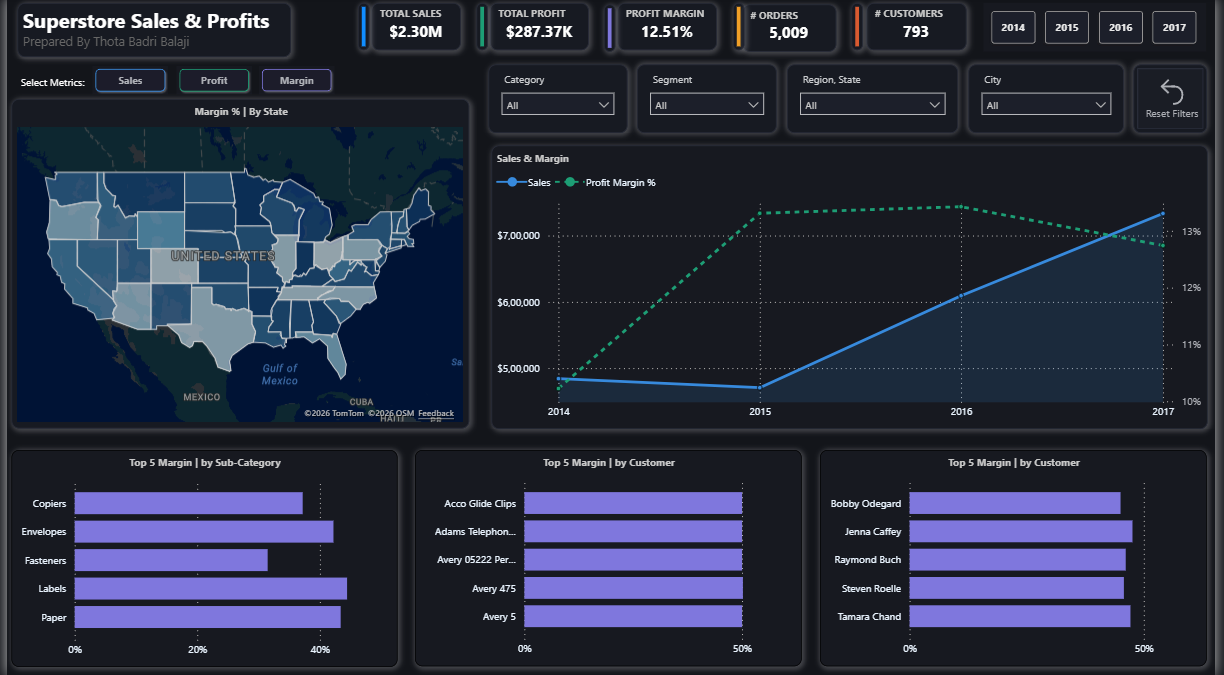

This screenshot's page, from the dashboard's own definition file:
{"tool":"powerbi","page":{"name":"Sales & Profit","canvas":[1280,720],"ordinal":0},"visuals":[{"type":"lineChart","title":"Sales & Margin  ","fields":{"Category":["Superstore sales dataset.Order Date.Variation.Date Hierarchy.Year","Superstore sales dataset.Order Date.Variation.Date Hierarchy.Quarter","Superstore sales dataset.Order Date.Variation.Date Hierarchy.Month","Superstore sales dataset.Order Date.Variation.Date Hierarchy.Day"],"Y":["Sum(Superstore sales dataset.Sales)"],"Y2":["measure.Profit Margin %"]},"box":[513,157.5,759,300.6],"z":0},{"type":"advancedSlicerVisual","fields":{"Values":["Superstore sales dataset.Order Date.Variation.Date Hierarchy.Year"]},"box":[1035.6,7,236.2,51.2],"z":1000},{"type":"slicer","fields":{"Values":["Superstore sales dataset.City"]},"box":[1019,72.4,164.9,72.4],"z":2000},{"type":"slicer","fields":{"Values":["Superstore sales dataset.Region Hierarchy.Region","Superstore sales dataset.Region Hierarchy.State"]},"box":[826.8,72.4,181.5,72.4],"z":3000},{"type":"slicer","fields":{"Values":["Superstore sales dataset.Segment"]},"box":[667.9,72.4,148.3,72.4],"z":4000},{"type":"slicer","fields":{"Values":["Superstore sales dataset.Category"]},"box":[510.1,72.4,147.1,72.4],"z":5000},{"type":"actionButton","title":"Reset Slicer","box":[1194.6,72.4,78.3,72.4],"z":6000},{"type":"card","title":"# CUSTOMERS","fields":{"Values":["Count(Superstore sales dataset.Customer ID)"]},"box":[911.9,7.2,105.9,50],"z":7000},{"type":"card","title":"# ORDERS","fields":{"Values":["Count(Superstore sales dataset.Order ID)"]},"box":[779.2,7.4,99.7,50],"z":8000},{"type":"card","title":"PROFIT MARGIN","fields":{"Values":["measure.Profit Margin %"]},"box":[648,6.8,105.6,50],"z":9000},{"type":"card","title":"TOTAL PROFIT","fields":{"Values":["Sum(Superstore sales dataset.Profit)"]},"box":[512.6,6.8,104.6,50],"z":10000},{"type":"card","title":"TOTAL SALES","fields":{"Values":["Sum(Superstore sales dataset.Sales)"]},"box":[387.1,7,94.9,50],"z":11000},{"type":"shape","box":[895.2,6.8,12,50],"z":12000},{"type":"shape","box":[769.9,6.8,12,50],"z":13000},{"type":"shape","box":[633.5,7.9,12,50],"z":14000},{"type":"shape","box":[498.3,6.8,12,50],"z":15000},{"type":"shape","box":[371.7,6.8,12,50],"z":16000},{"type":"actionButton","title":"Margin %","box":[267.6,73.1,80,30],"z":17000},{"type":"actionButton","title":"Profit","box":[179.4,73.1,80,30.3],"z":18000},{"type":"actionButton","title":"Sales","box":[90.9,73.1,80.3,30.3],"z":19000},{"type":"textbox","box":[10.5,5.8,289.7,57],"z":20000},{"type":"textbox","title":"Select Metrics:","box":[9.5,74.8,81.1,33.4],"z":21000},{"type":"azureMap","title":"Margin %  | By State","fields":{"Category":["Superstore sales dataset.State"]},"box":[4,108,485.5,349.1],"z":28500},{"type":"barChart","title":"Top 5 Margin | by Sub-Category","fields":{"Category":["Superstore sales dataset.Sub-Category"],"Y":["measure.Profit Margin %"]},"box":[4,480,409,230],"z":31000},{"type":"barChart","title":"Top 5 Margin | by Customer","fields":{"Category":["Superstore sales dataset.Customer Name"],"Y":["measure.Profit Margin %"]},"box":[862.7,480,410,229],"z":32000},{"type":"barChart","title":"Top 5 Margin | by Customer","fields":{"Category":["Superstore sales dataset.Product Name"],"Y":["measure.Profit Margin %"]},"box":[433,480,410,229],"z":33000}]}

Visuals, with their boxes in screenshot pixels (x1, y1, x2, y2), scaled from the page's 1280x720 canvas onto the 1224x675 screenshot:
"Sales & Margin  " lineChart: <region>491, 148, 1216, 429</region>
advancedSlicerVisual - Superstore sales dataset.Order Date.Variation.Date Hierarchy.Year: <region>990, 7, 1216, 55</region>
slicer - Superstore sales dataset.City: <region>974, 68, 1132, 136</region>
slicer - Superstore sales dataset.Region Hierarchy.Region x Superstore sales dataset.Region Hierarchy.State: <region>791, 68, 964, 136</region>
slicer - Superstore sales dataset.Segment: <region>639, 68, 780, 136</region>
slicer - Superstore sales dataset.Category: <region>488, 68, 628, 136</region>
"Reset Slicer" actionButton: <region>1142, 68, 1217, 136</region>
"# CUSTOMERS" card: <region>872, 7, 973, 54</region>
"# ORDERS" card: <region>745, 7, 840, 54</region>
"PROFIT MARGIN" card: <region>620, 6, 721, 53</region>
"TOTAL PROFIT" card: <region>490, 6, 590, 53</region>
"TOTAL SALES" card: <region>370, 7, 461, 53</region>
shape: <region>856, 6, 868, 53</region>
shape: <region>736, 6, 748, 53</region>
shape: <region>606, 7, 617, 54</region>
shape: <region>476, 6, 488, 53</region>
shape: <region>355, 6, 367, 53</region>
"Margin %" actionButton: <region>256, 69, 332, 97</region>
"Profit" actionButton: <region>172, 69, 248, 97</region>
"Sales" actionButton: <region>87, 69, 164, 97</region>
textbox: <region>10, 5, 287, 59</region>
"Select Metrics:" textbox: <region>9, 70, 87, 101</region>
"Margin %  | By State" azureMap: <region>4, 101, 468, 429</region>
"Top 5 Margin | by Sub-Category" barChart: <region>4, 450, 395, 666</region>
"Top 5 Margin | by Customer" barChart: <region>825, 450, 1217, 665</region>
"Top 5 Margin | by Customer" barChart: <region>414, 450, 806, 665</region>
